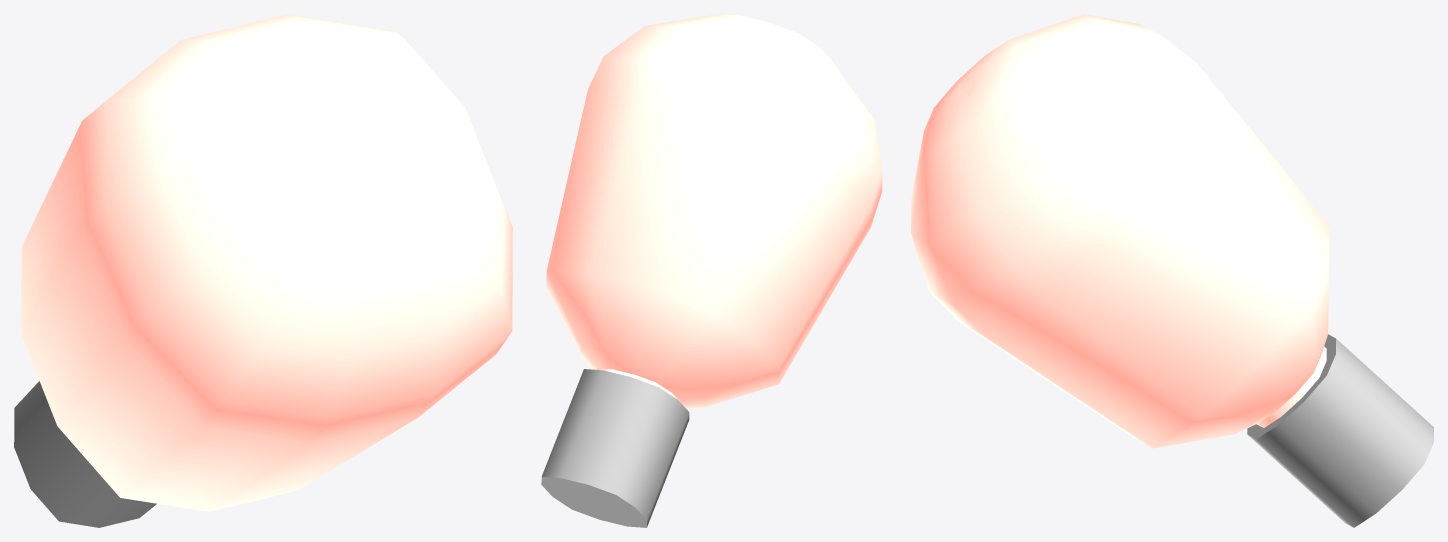
Rendered from MDL_LightbulbSimple.fbx.
3 renders of one model, left to right at view 1: azimuth 30°, elevation 25°; view 2: azimuth 150°, elevation 25°; view 3: azimuth 270°, elevation 25°, orthographic. The views are drawn at different scales.
Visible parts, largest first — view 1: LightbulbSimple; view 2: LightbulbSimple; view 3: LightbulbSimple.
Part boxes in pixels (box(x1,y1,x2,y2)): LightbulbSimple: box(14, 14, 512, 527); LightbulbSimple: box(541, 14, 882, 527); LightbulbSimple: box(911, 14, 1433, 527).
Size of the model in its own units: 5.33 by 8.24 by 8.24.
